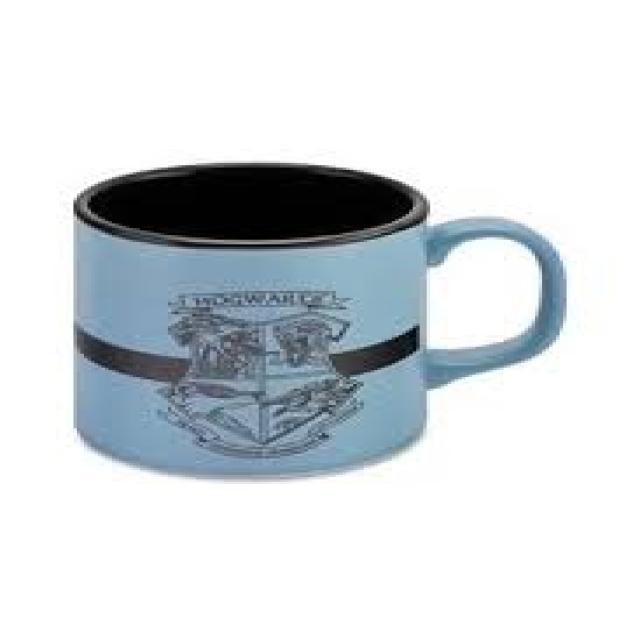taza: (70, 159, 569, 482)
